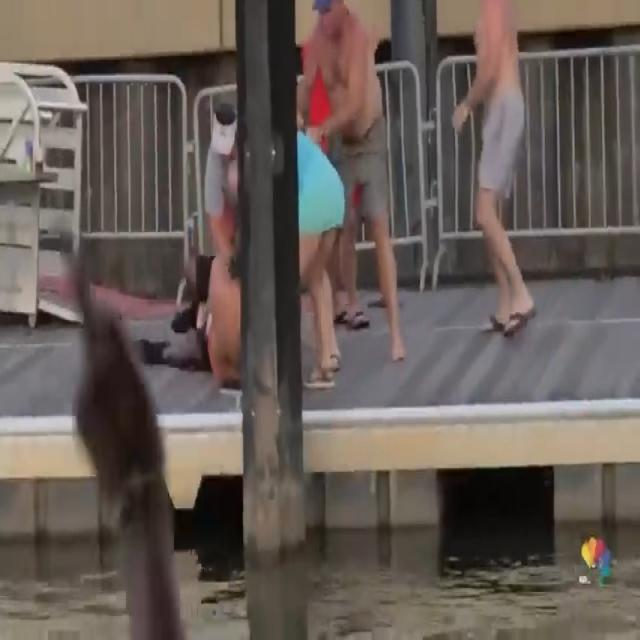fight: (149, 87, 351, 390)
non-fight: (450, 0, 543, 351)
